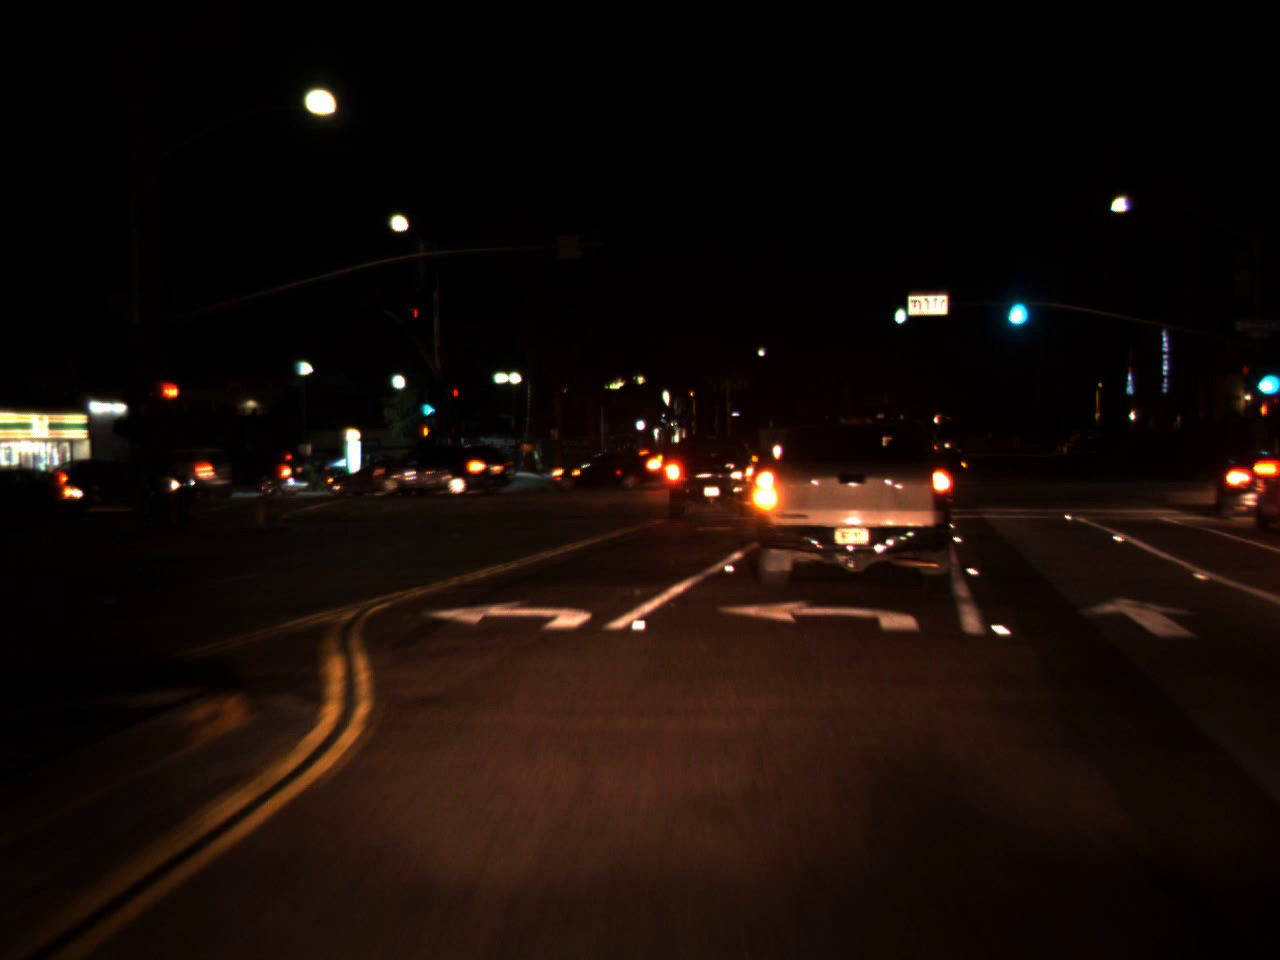go: (1002, 276, 1030, 333), (1253, 349, 1280, 403), (417, 386, 438, 422), (891, 290, 907, 329)
